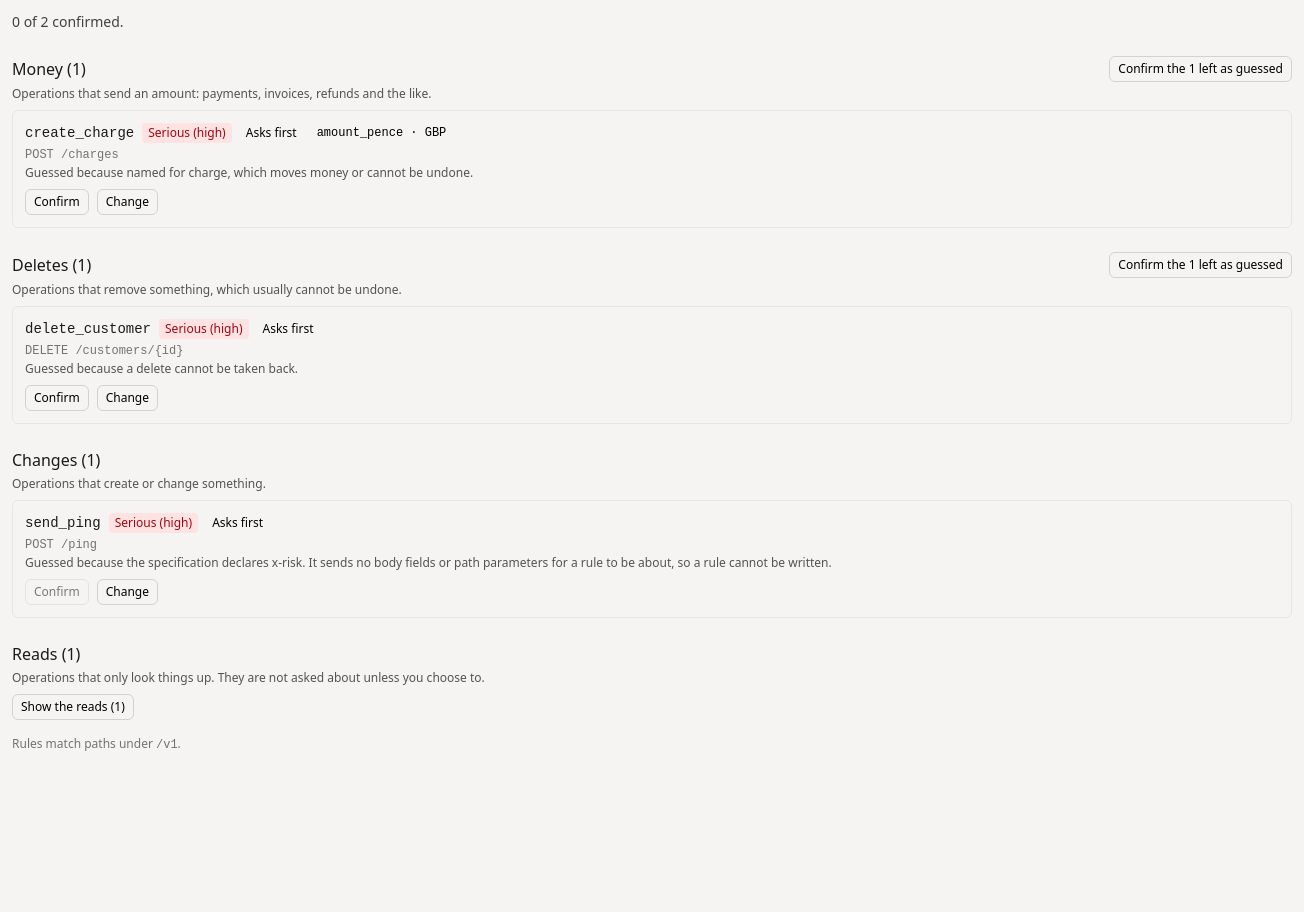
it: suggested approvals › shows each operation with its risk, whether it is gated, and its amount
expect the text "Serious (high)" next to "create_charge" is shown: met, box [148, 124, 190, 141]
expect the text "Asks first" next to "amount_pence" is shown: met, box [246, 124, 297, 141]
Click the button "Show the reads (1)" at [73, 707], box [12, 694, 134, 720]
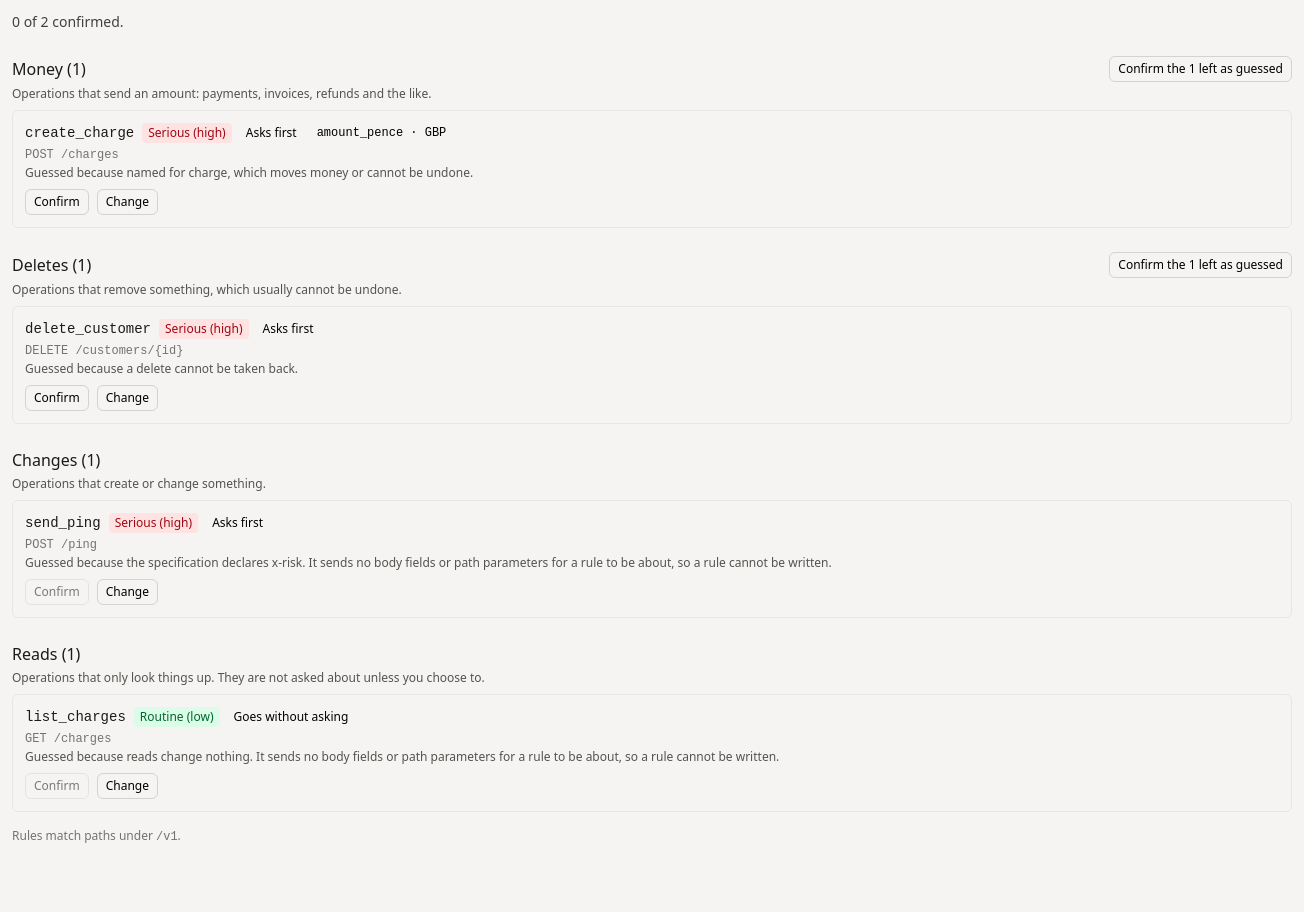
expect the text "Routine (low)" is shown: met, box [134, 707, 220, 727]
expect the text "Goes without asking" is shown: met, box [228, 707, 354, 727]
